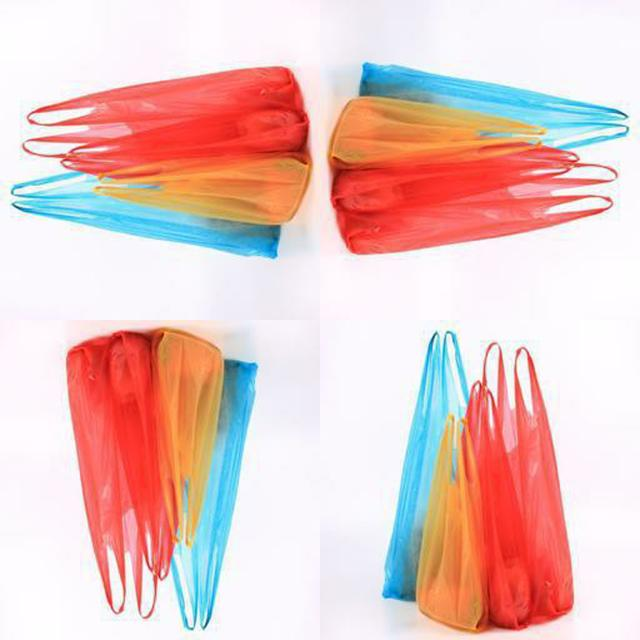Single-layer Plastic: (12, 66, 310, 258), (332, 148, 615, 254), (68, 332, 172, 618), (359, 62, 629, 149), (171, 360, 258, 630), (382, 331, 469, 601), (498, 348, 574, 623), (465, 342, 531, 629), (28, 66, 304, 126), (149, 329, 224, 544), (329, 96, 545, 170), (416, 415, 489, 630)
